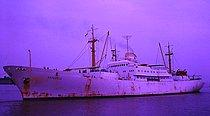Ship: (4, 23, 208, 103)
